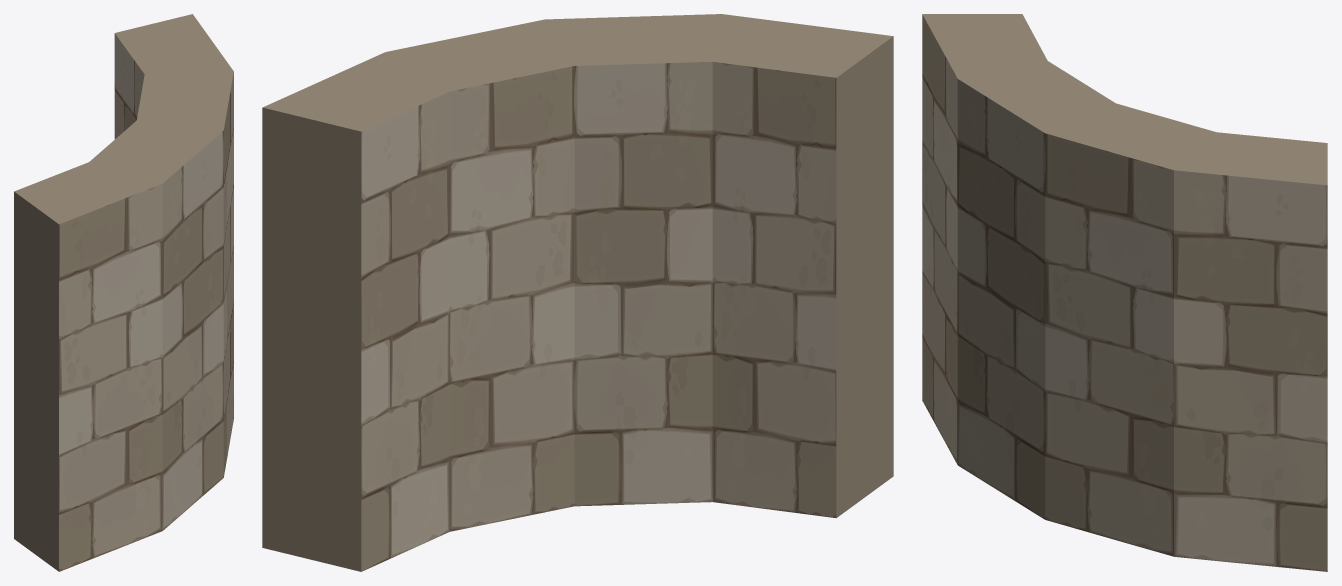
File: SM_Bld_House_Base_Wall_Curved_02.fbx
3 views of the same model, side by side, from view 1: azimuth 30°, elevation 25°; view 2: azimuth 150°, elevation 25°; view 3: azimuth 270°, elevation 25° (orthographic). The views are drawn at different scales.
Visible parts, largest first — view 1: SM_Bld_House_Base_Wall_Curved_02; view 2: SM_Bld_House_Base_Wall_Curved_02; view 3: SM_Bld_House_Base_Wall_Curved_02.
Boxes of the visible parts, x1,y1,x2,y2 form: SM_Bld_House_Base_Wall_Curved_02: [14, 14, 233, 571]; SM_Bld_House_Base_Wall_Curved_02: [262, 14, 893, 571]; SM_Bld_House_Base_Wall_Curved_02: [922, 14, 1327, 571].
Bounding box in the file's own units: 285 × 300 × 285.
